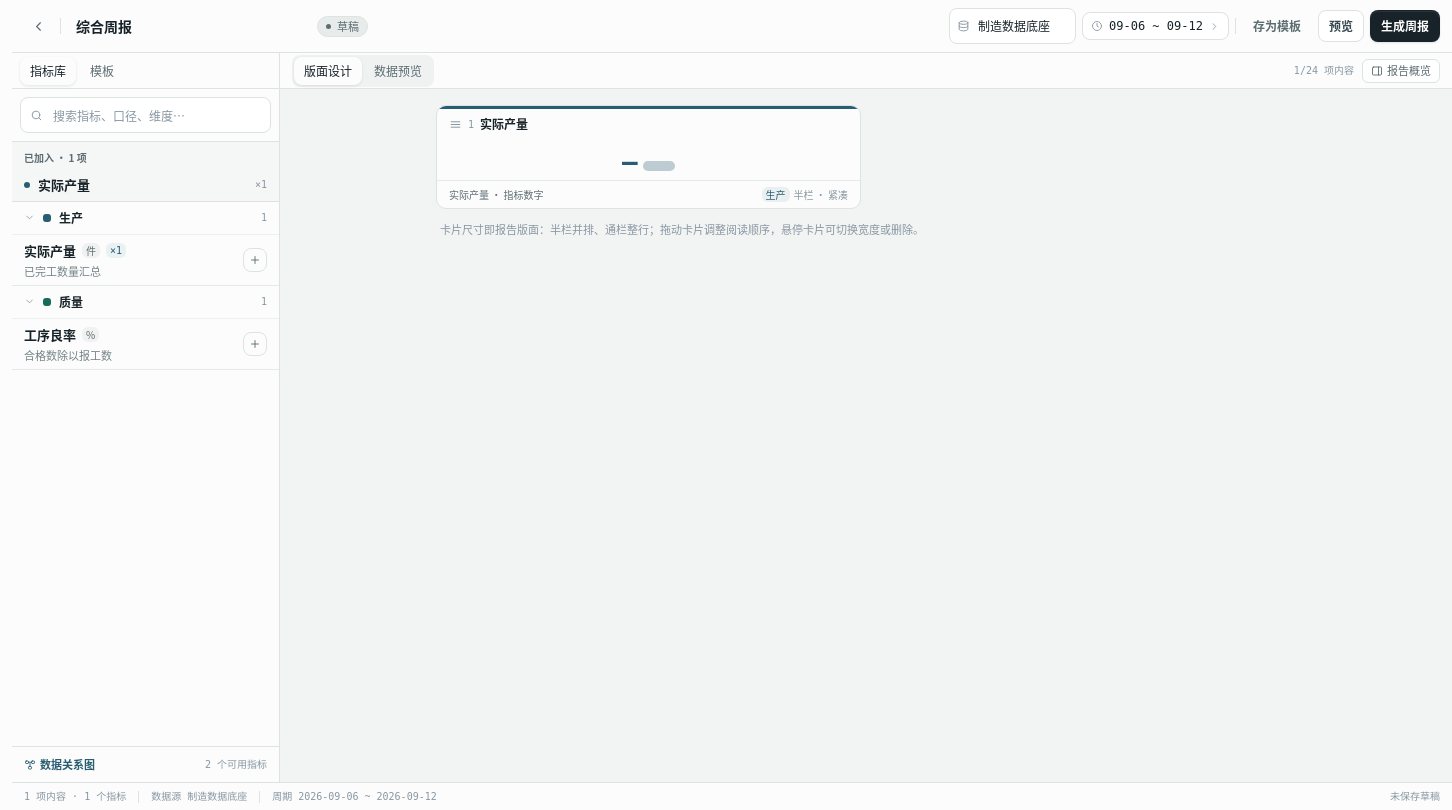
Test case: ReportComposerPage › preview renders a data-bar table and a two-period trend overlay
Expected: the field labelled "搜索指标" is shown, 20,97 -> 271,133
Click the button "预览" at (1341, 26), box 1318,10 -> 1364,42
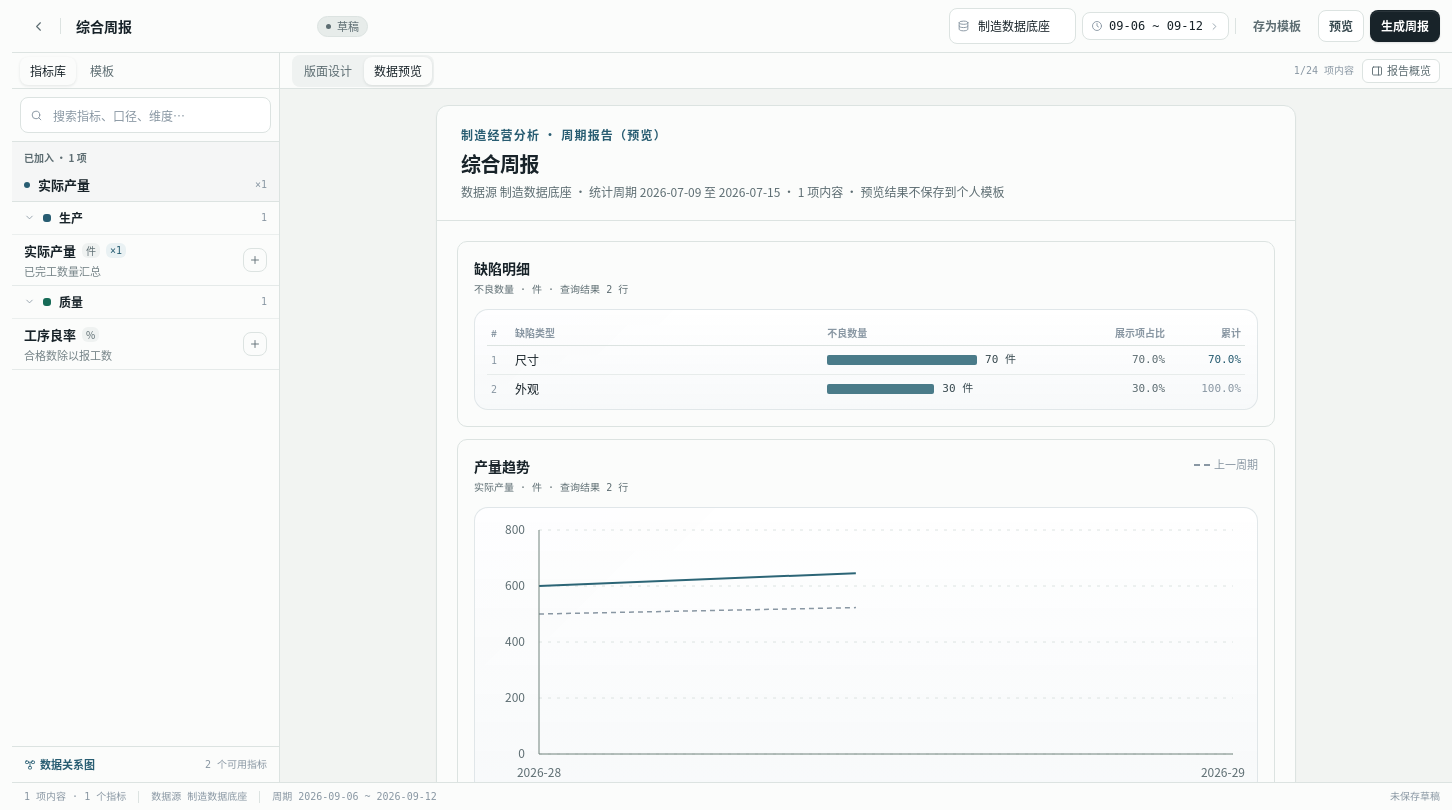
Expected: the heading "缺陷明细" is shown, 474,258 -> 530,278
Expected: the column heading "展示项占比" is shown, 1085,320 -> 1165,346
Expected: the column heading "累计" is shown, 1165,320 -> 1245,346
